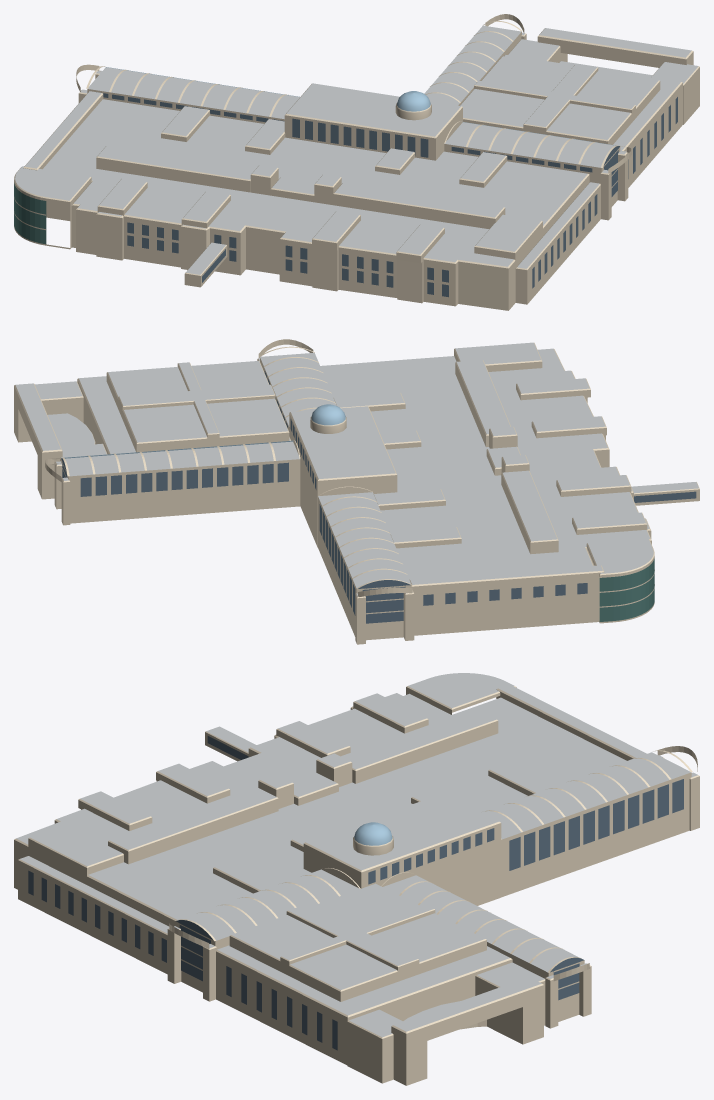
The model's file is detail.glb.
3 views of the same model, one above another, from view 1: azimuth 30°, elevation 25°; view 2: azimuth 150°, elevation 25°; view 3: azimuth 270°, elevation 25° (orthographic). The views are drawn at different scales.
Parts seen in each view (by area): view 1: charlotte-convention-center; view 2: charlotte-convention-center; view 3: charlotte-convention-center.
Boxes of the visible parts, <box> form: charlotte-convention-center: <box>14,14,699,310</box>; charlotte-convention-center: <box>14,339,699,644</box>; charlotte-convention-center: <box>14,673,699,1085</box>.
Bounding box in the file's own units: 307 × 39.2 × 248.
